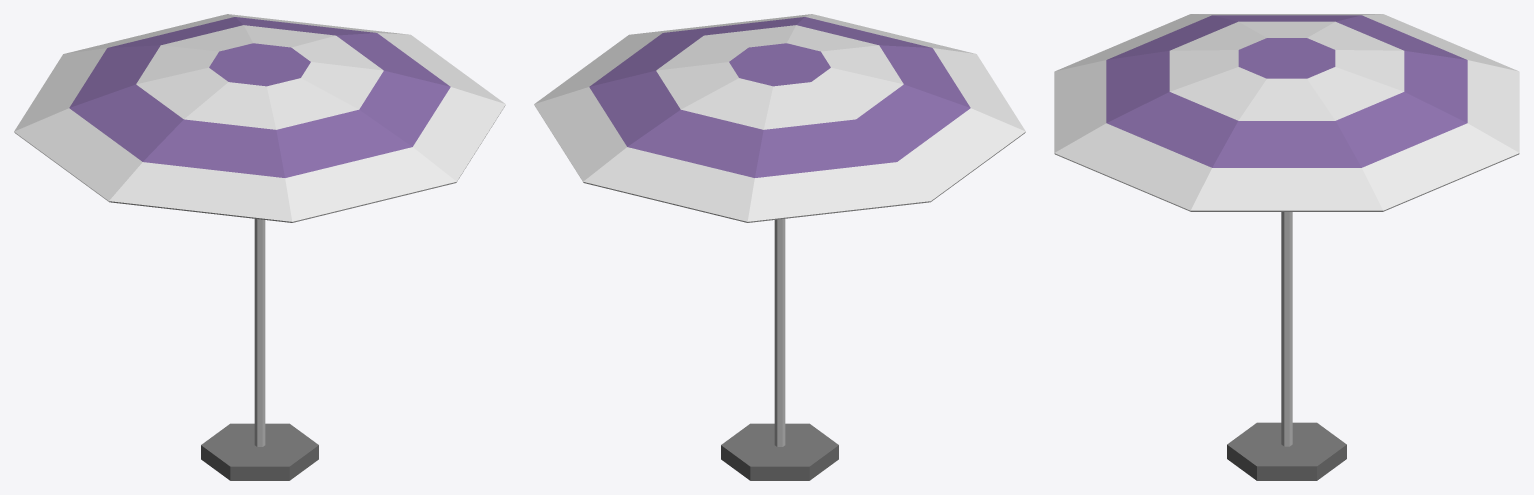
File: Umbrella_05.fbx
3 views of the same model, side by side, from view 1: azimuth 30°, elevation 25°; view 2: azimuth 150°, elevation 25°; view 3: azimuth 270°, elevation 25° (orthographic).
Visible parts, largest first — view 1: Umbrella_05; view 2: Umbrella_05; view 3: Umbrella_05.
Boxes of the visible parts, bbox=[...] form: Umbrella_05: bbox=[14, 14, 505, 480]; Umbrella_05: bbox=[534, 14, 1025, 480]; Umbrella_05: bbox=[1054, 14, 1519, 480].
Size of the model in its own units: 277 by 263 by 277.
